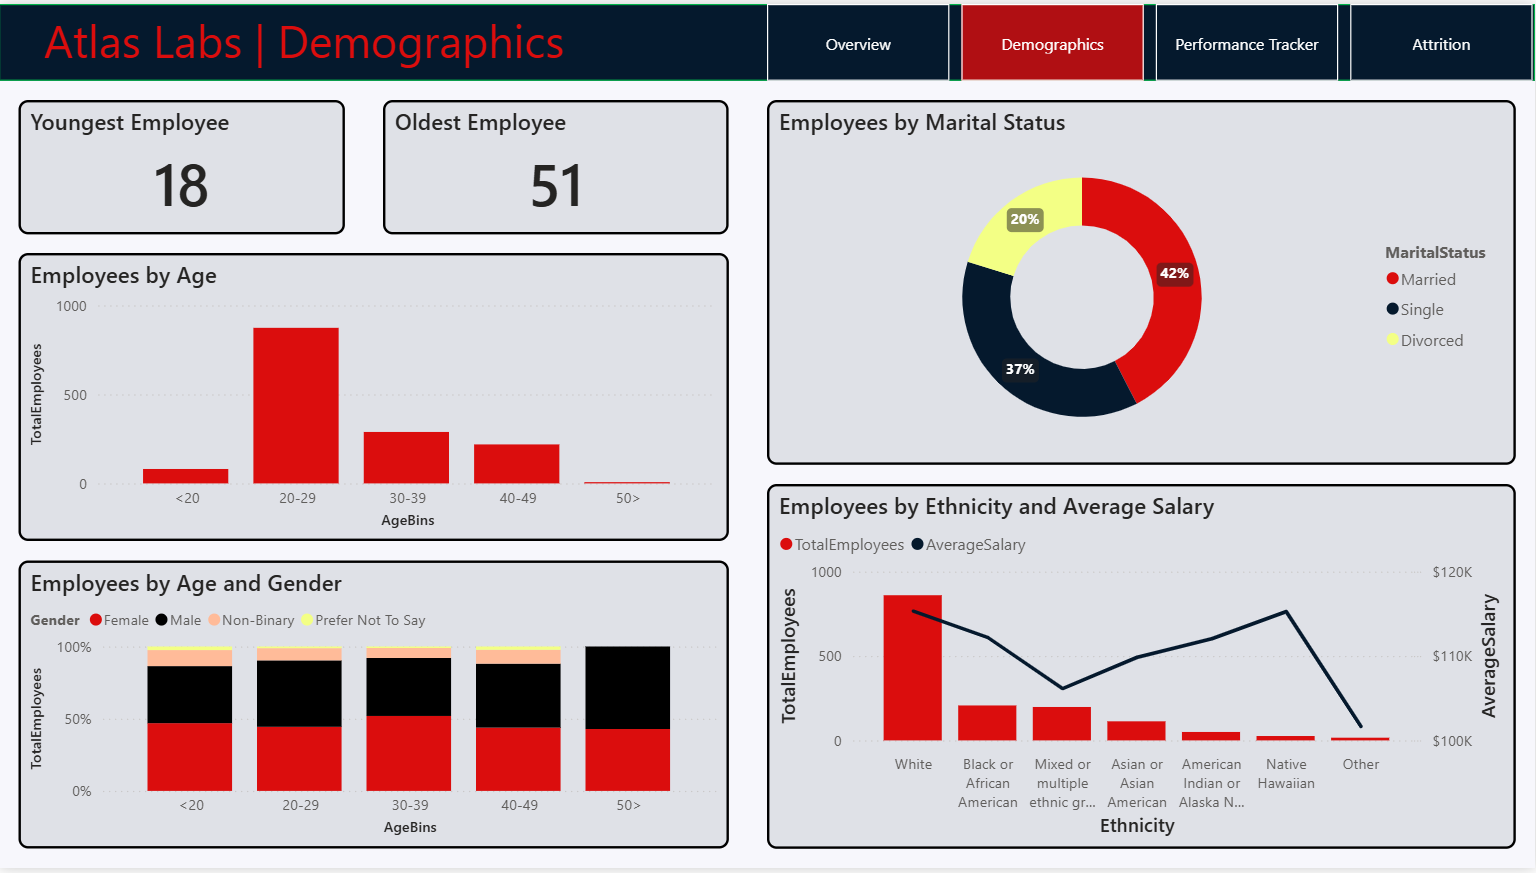

This screenshot's page, from the dashboard's own definition file:
{"tool":"powerbi","page":{"name":"Demographics","canvas":[1280,720],"ordinal":1},"visuals":[{"type":"card","title":"Youngest Employee","fields":{"Values":["Sum(DimEmployee.Age)"]},"box":[16,80,272,112],"z":0},{"type":"card","title":"Oldest Employee","fields":{"Values":["Sum(DimEmployee.Age)"]},"box":[320,80,288,112],"z":1000},{"type":"columnChart","title":"Employees by Age","fields":{"Category":["DimEmployee.AgeBins"],"Y":["_Measures.TotalEmployees"]},"box":[16,208,592,240],"z":2000},{"type":"hundredPercentStackedColumnChart","title":"Employees by Age and Gender","fields":{"Category":["DimEmployee.AgeBins"],"Series":["DimEmployee.Gender"],"Y":["_Measures.TotalEmployees"]},"box":[16,464,592,240],"z":3000},{"type":"donutChart","title":"Employees by Marital Status","fields":{"Category":["DimEmployee.MaritalStatus"],"Y":["_Measures.TotalEmployees"]},"box":[640,80,624,304],"z":4000},{"type":"lineStackedColumnComboChart","title":"Employees by Ethnicity and Average Salary","fields":{"Category":["DimEmployee.Ethnicity"],"Y":["_Measures.TotalEmployees"],"Y2":["_Measures.AverageSalary"]},"box":[640,400,624,304],"z":5000},{"type":"shape","box":[0,0,1280,64],"z":6000},{"type":"textbox","box":[32,0,624,64],"z":7000},{"type":"pageNavigator","box":[640,0,640,64],"z":8000}]}

Visuals, with their boxes in screenshot pixels (x1, y1, x2, y2), scaled from the page's 1280x720 canvas onto the 1536x873 screenshot:
"Youngest Employee" card: locate(19, 97, 346, 233)
"Oldest Employee" card: locate(384, 97, 730, 233)
"Employees by Age" columnChart: locate(19, 252, 730, 543)
"Employees by Age and Gender" hundredPercentStackedColumnChart: locate(19, 563, 730, 854)
"Employees by Marital Status" donutChart: locate(768, 97, 1517, 466)
"Employees by Ethnicity and Average Salary" lineStackedColumnComboChart: locate(768, 485, 1517, 854)
shape: locate(0, 0, 1535, 78)
textbox: locate(38, 0, 787, 78)
pageNavigator: locate(768, 0, 1535, 78)
